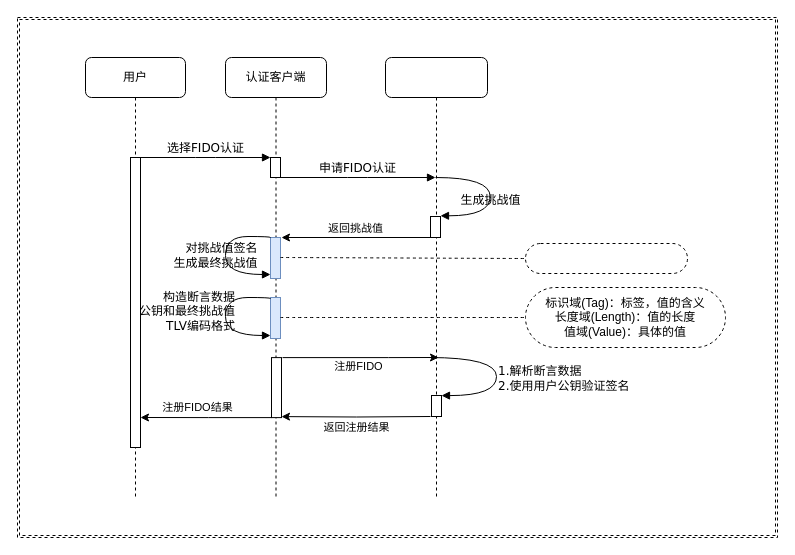
The diagram is 795 pixels wide and 555 high, and some of its shapes have lost their labels. The box of each missing label's shape, as (x1, y1, x2, y2) in pixels:
FIDO认证服务: (384, 56, 488, 498)
使用注册时创建的私钥: (524, 242, 688, 274)
